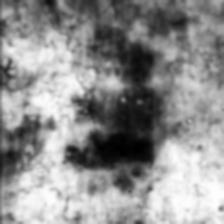Potentially Malignant Skin Tumors: (68, 126, 166, 177)
